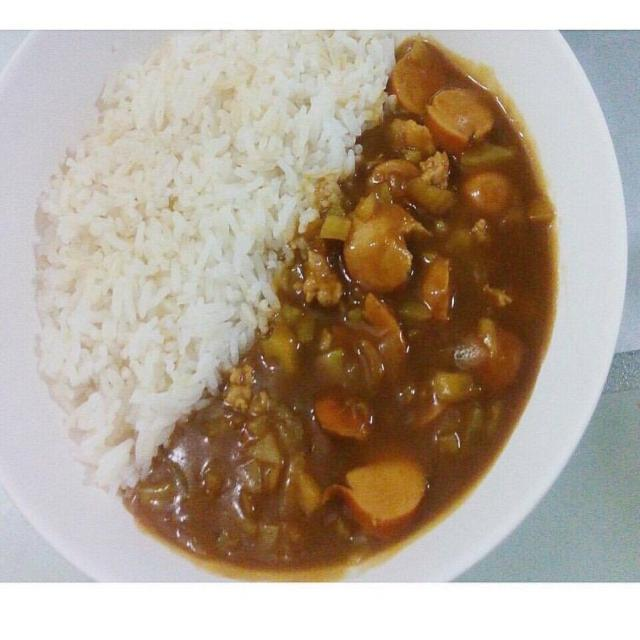carb: (37, 33, 395, 488)
meat: (277, 178, 351, 309), (316, 326, 386, 393), (262, 305, 317, 374), (370, 152, 451, 194), (474, 263, 512, 308), (225, 365, 255, 412), (446, 220, 490, 252), (276, 405, 304, 453), (247, 391, 272, 440)
vegetable: (391, 40, 517, 220), (345, 195, 430, 365), (325, 459, 429, 539), (409, 373, 479, 455), (455, 319, 524, 393), (237, 433, 285, 524), (316, 394, 374, 441), (421, 257, 452, 322), (407, 178, 456, 216), (386, 118, 431, 159)
